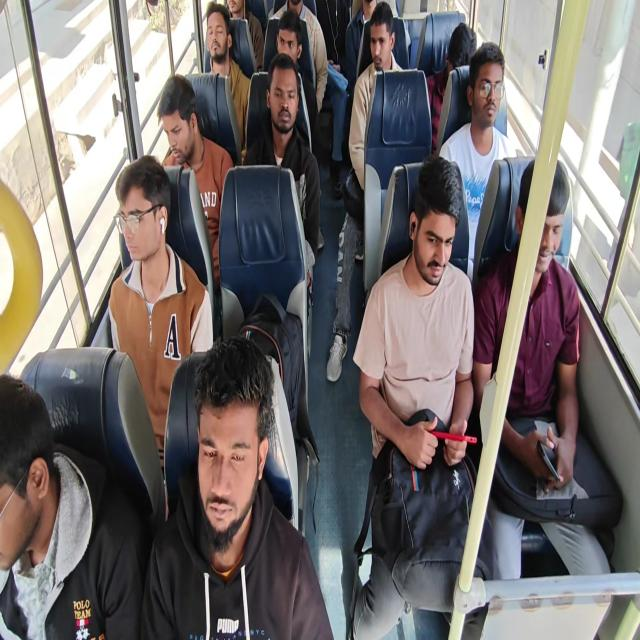person: (167, 355, 309, 598), (0, 378, 54, 627), (411, 163, 483, 329), (516, 178, 576, 295), (240, 77, 306, 152), (120, 165, 164, 271), (209, 8, 258, 96), (477, 65, 516, 148), (169, 71, 203, 151), (453, 27, 492, 90), (373, 3, 399, 65), (282, 26, 308, 55), (282, 0, 316, 17), (360, 0, 380, 19)
